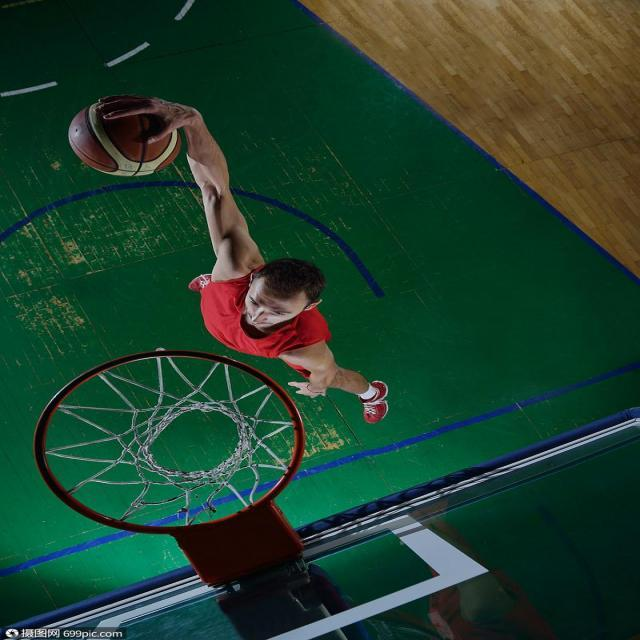rim: (72, 99, 180, 172)
